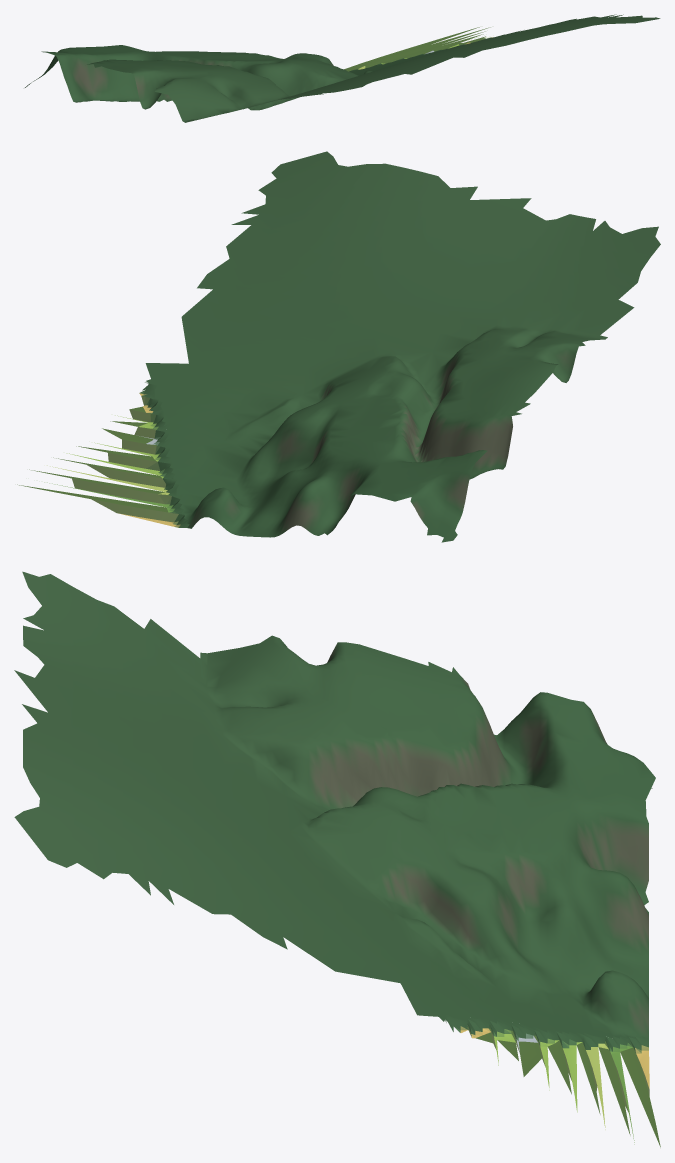
File: payo_land_xm4_y9.glb
3 views of the same model, one above another, from view 1: azimuth 30°, elevation 25°; view 2: azimuth 150°, elevation 25°; view 3: azimuth 270°, elevation 25° (orthographic). The views are drawn at different scales.
Parts seen in each view (by area): view 1: payo_land_xm4_y9; view 2: payo_land_xm4_y9; view 3: payo_land_xm4_y9.
Boxes of the visible parts, x1,y1,x2,y2 form: payo_land_xm4_y9: (25, 14, 660, 122); payo_land_xm4_y9: (17, 151, 660, 542); payo_land_xm4_y9: (14, 571, 660, 1147).
Size of the model in its own units: 303 by 134 by 268.
